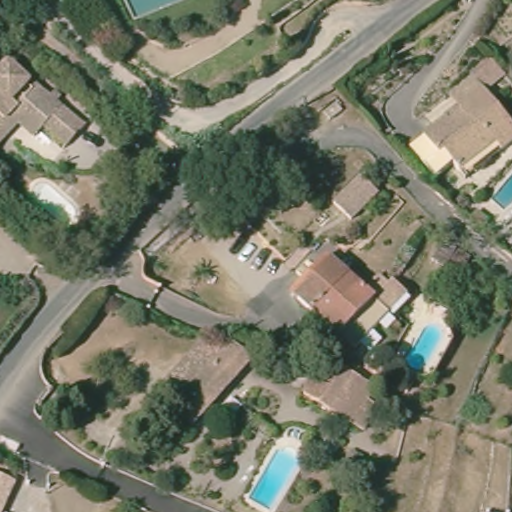pool: (243, 436, 304, 507), (405, 319, 445, 374), (487, 169, 512, 214)
